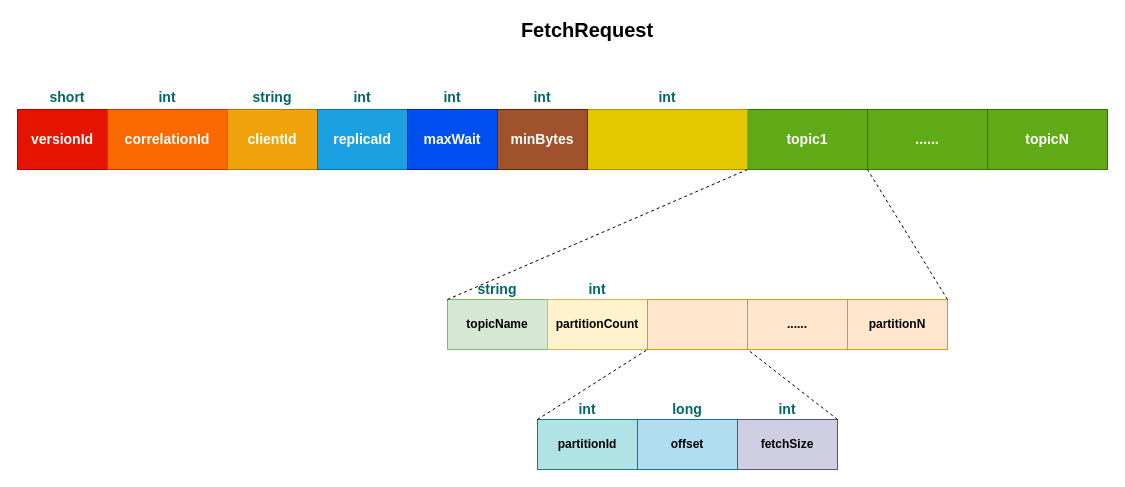
Some shapes in this 1125 by 487 pixel diagram are drawn without their labels. The shapes that lost their labels are listed below. From the top down, each one's centre as x and y in pixels, then its label:
At point 667,139: "topicCount".
At point 697,324: "partition1".
